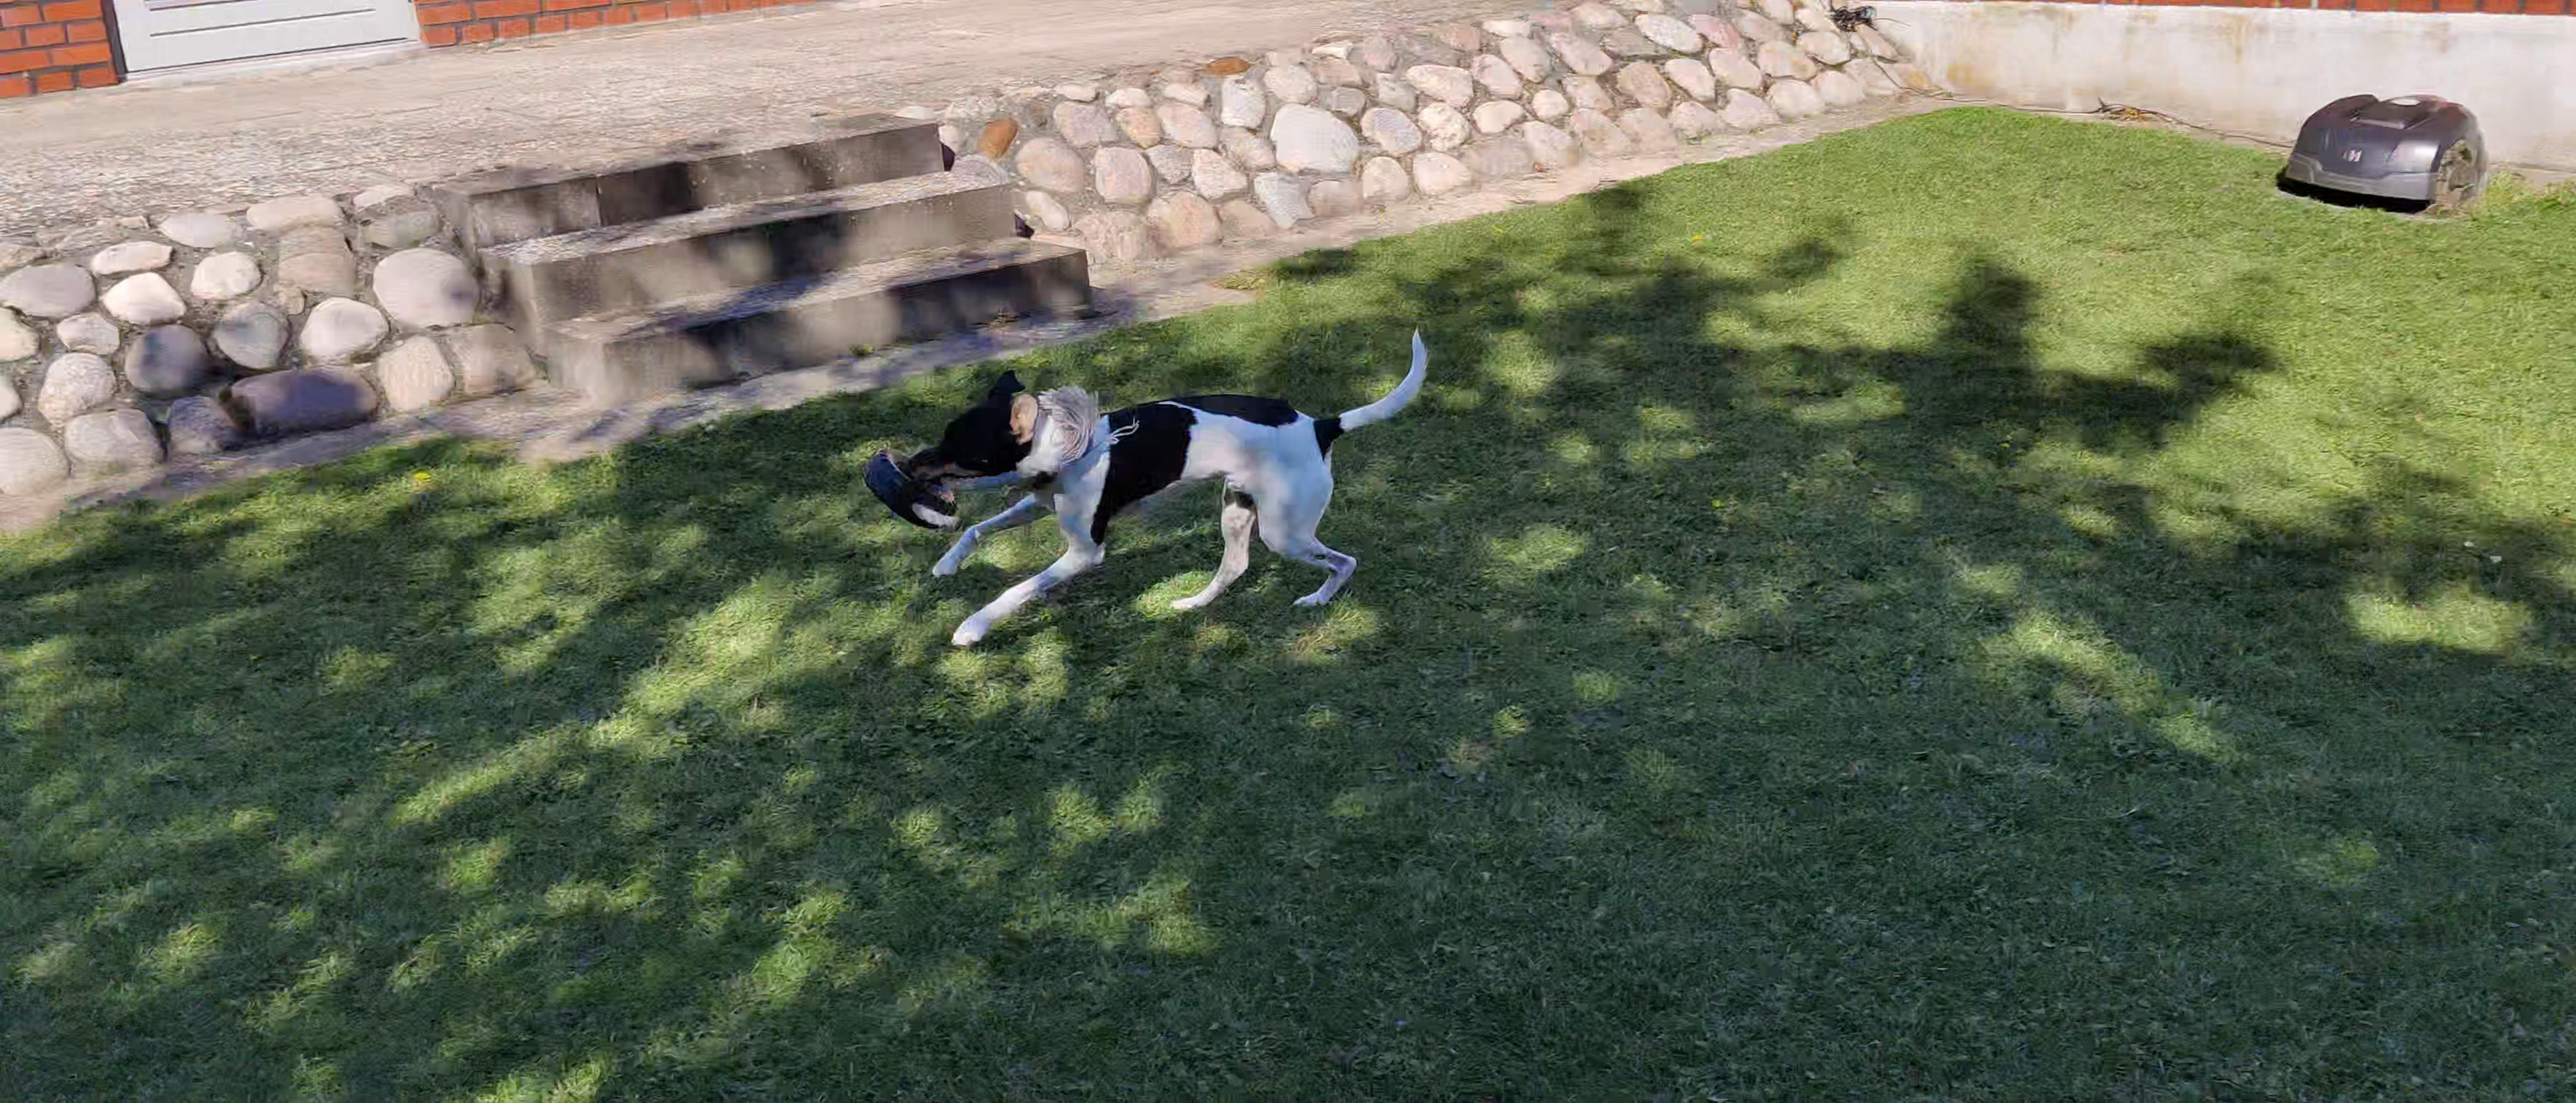Dog: (892, 298, 1449, 656)
